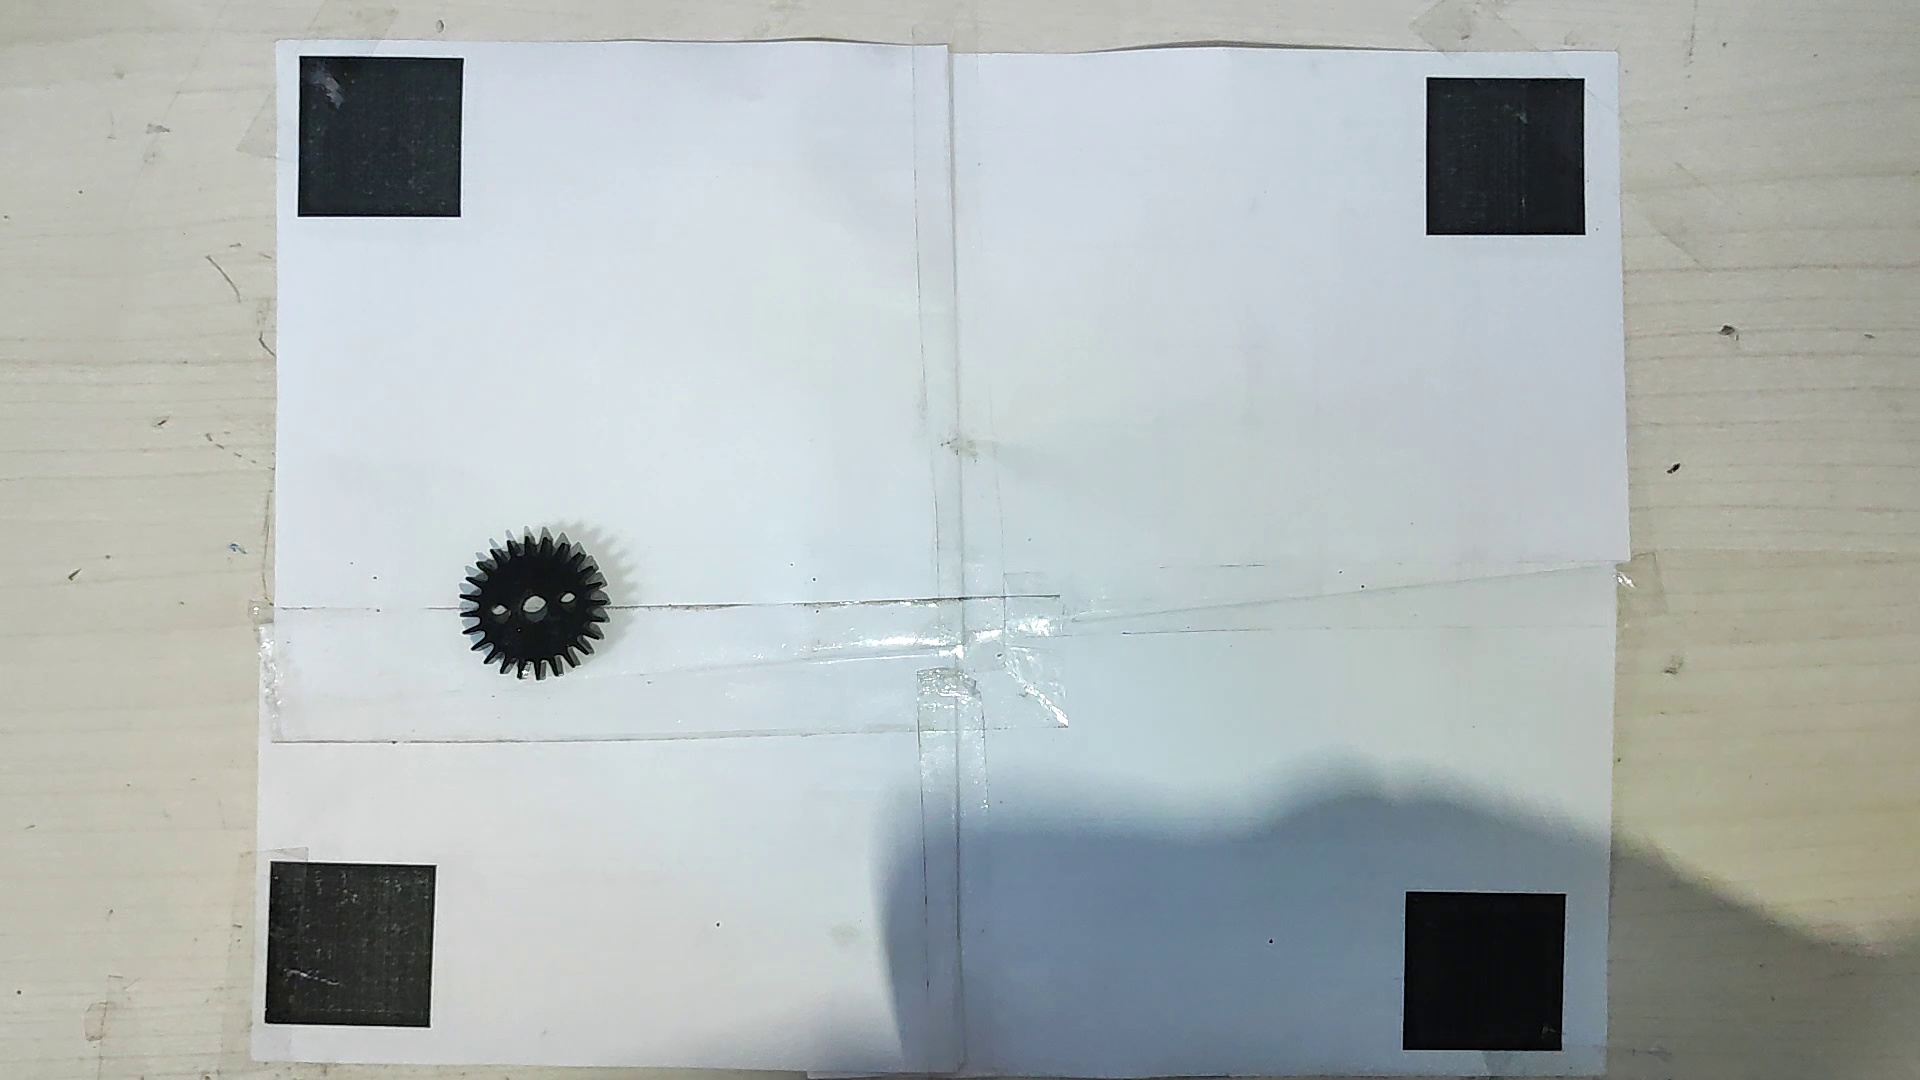Gear: (458, 526, 616, 676)
